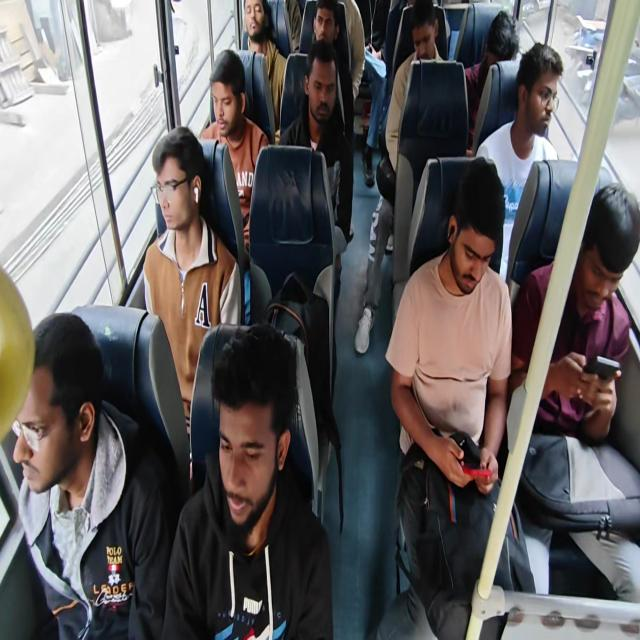person: (384, 158, 527, 638), (161, 322, 334, 639), (11, 311, 171, 638), (354, 0, 466, 354), (143, 126, 244, 468), (508, 181, 639, 444), (474, 42, 563, 276), (278, 40, 354, 306), (198, 48, 270, 253), (464, 10, 519, 152), (241, 0, 287, 138), (310, 0, 354, 140)
